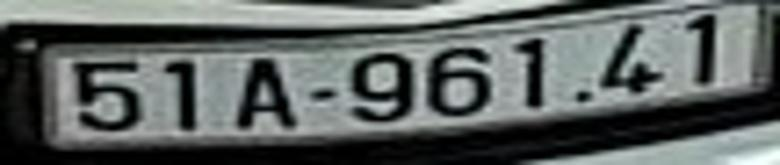-: (311, 87, 335, 102)
.: (575, 92, 592, 102)
1: (689, 13, 717, 87), (168, 60, 196, 133), (518, 39, 547, 109)
4: (601, 27, 663, 94)
5: (72, 63, 140, 131)
6: (426, 47, 492, 116)
9: (355, 54, 410, 122)
A: (235, 58, 297, 128)
